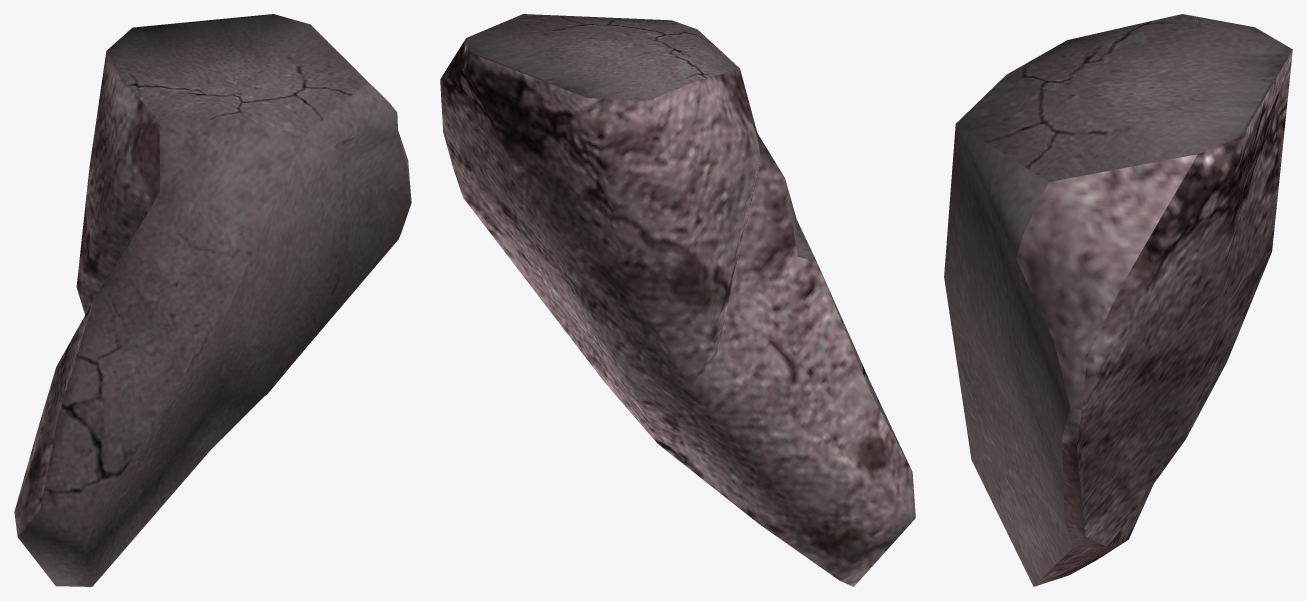
File: StoneDebis.fbx
3 views of the same model, side by side, from view 1: azimuth 30°, elevation 25°; view 2: azimuth 150°, elevation 25°; view 3: azimuth 270°, elevation 25° (orthographic). The views are drawn at different scales.
Visible parts, largest first — view 1: Stone1; view 2: Stone1; view 3: Stone1.
Boxes of the visible parts, x1,y1,x2,y2 form: Stone1: (14,14,411,586); Stone1: (440,14,915,586); Stone1: (944,14,1292,586).
Bounding box in the file's own units: 2.13 × 2.31 × 1.16.
